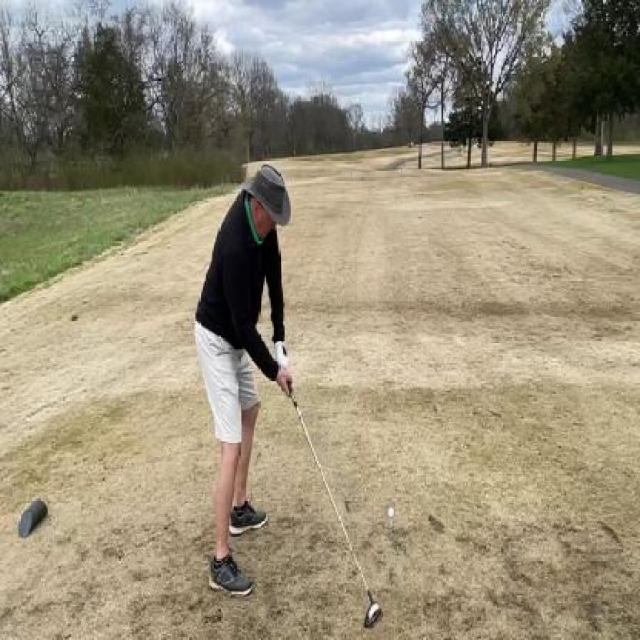club head: (363, 587, 385, 638)
